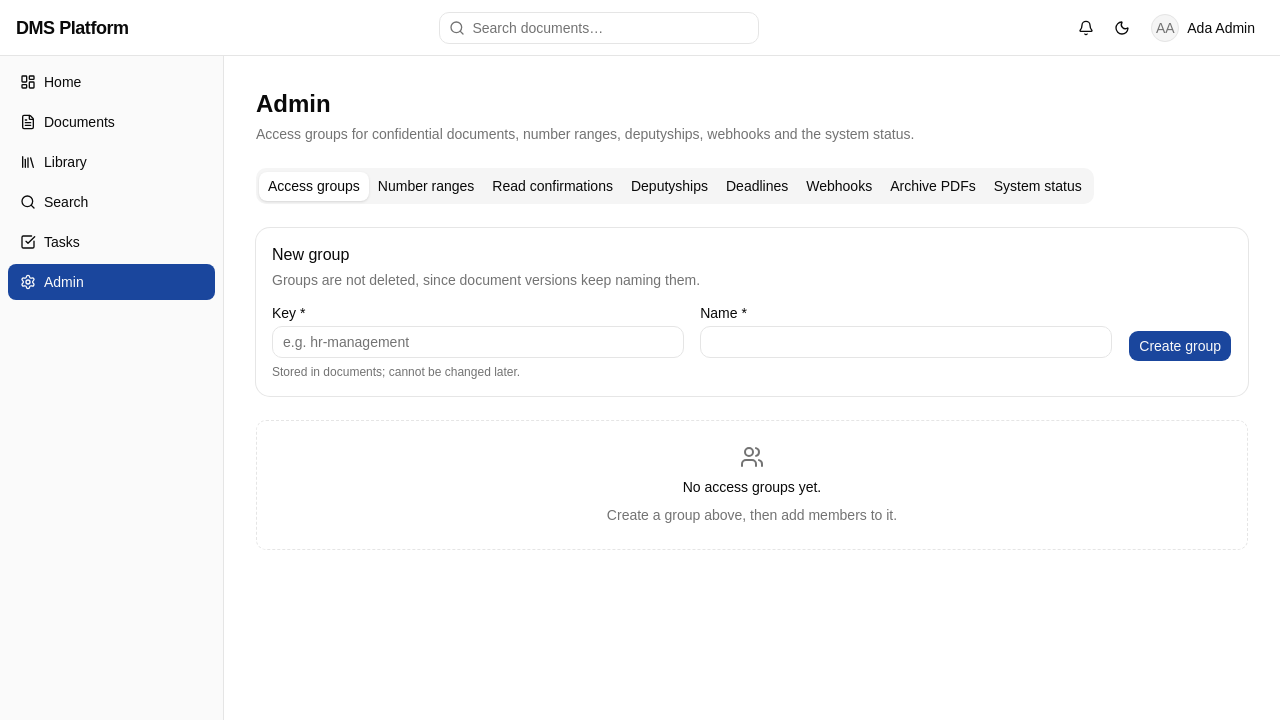
Scenario: admin: webhooks (DMS-107) › reports a failed test event with the reason
Step 1. Click the tab "Webhooks" → (839, 186), box [797,172,881,200]
(page scrolled)
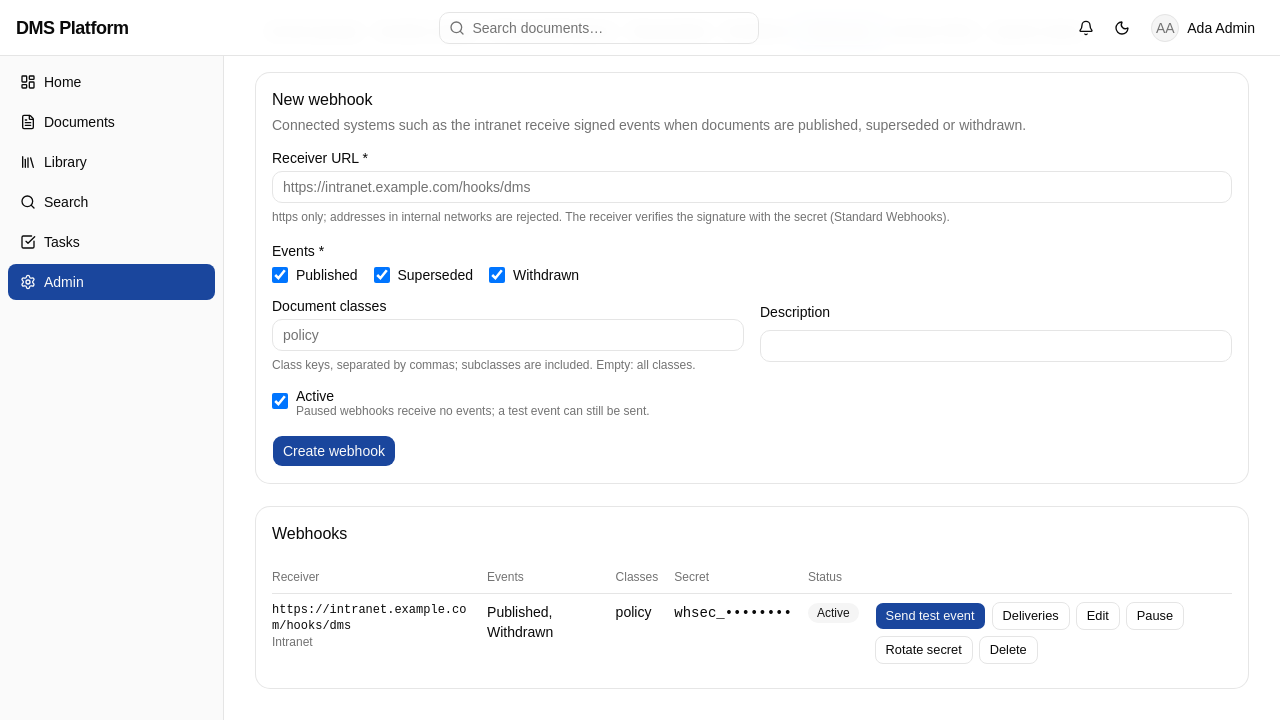
Step 2. Click the button with aria-label "Send a test event to intranet.example.com" → (930, 616), box [875,602,986,630]
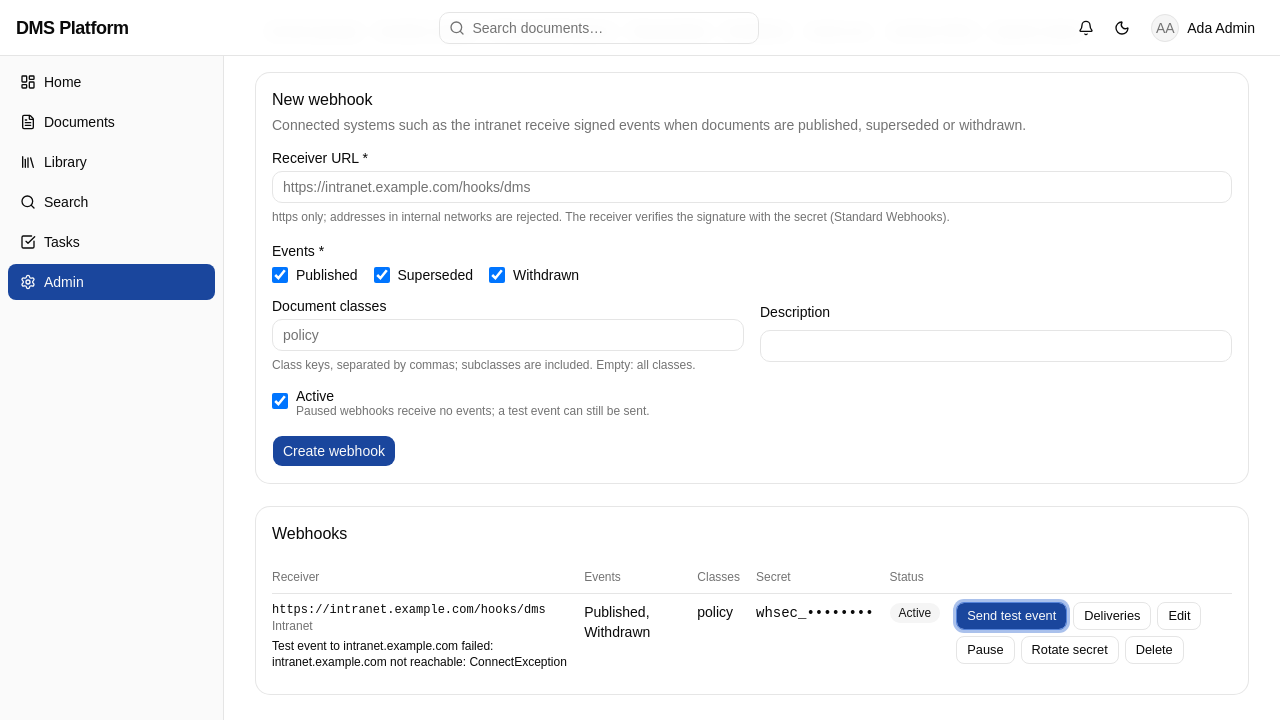
Result: the message with test id "test-w1" shows "Test event to intranet.example.com failed: intranet.example.com not reachable" at [272,639,567,669]
